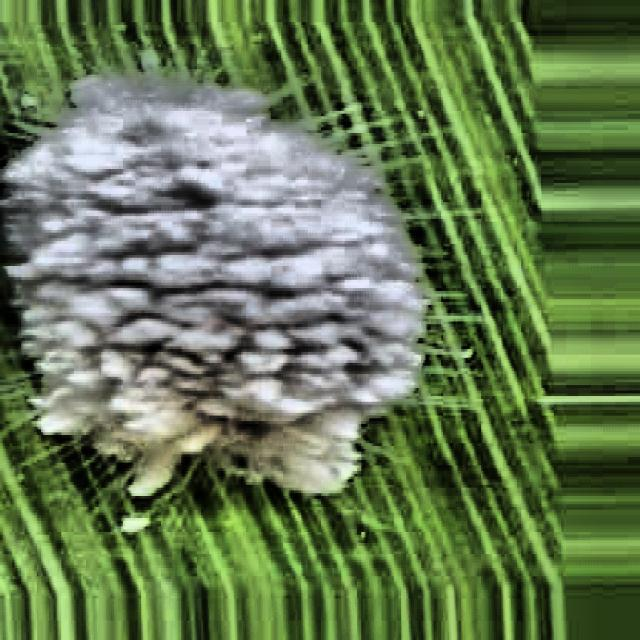Mealy-bug: (0, 18, 475, 578)
